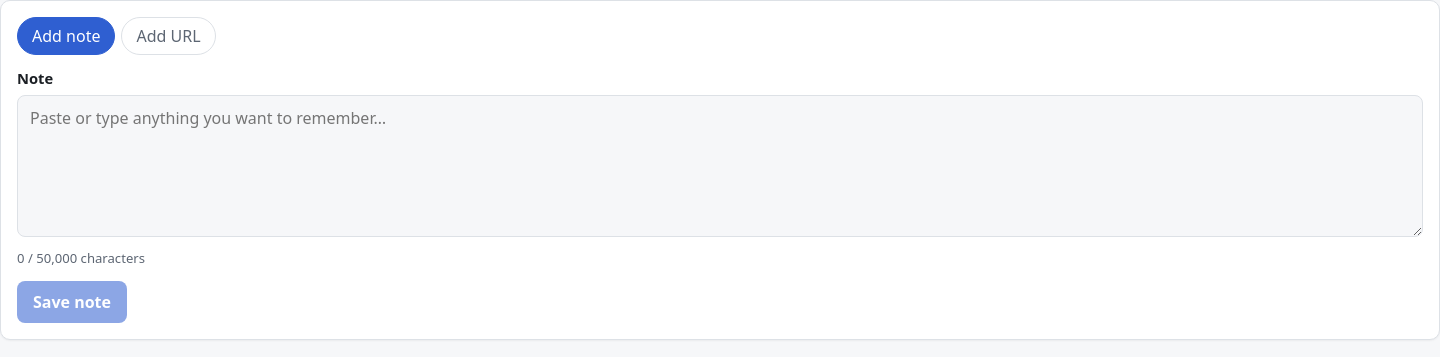
AddContentForm › switches to URL mode and submits a URL
Click the tab "Add URL" at (168, 36), box [121, 17, 216, 55]
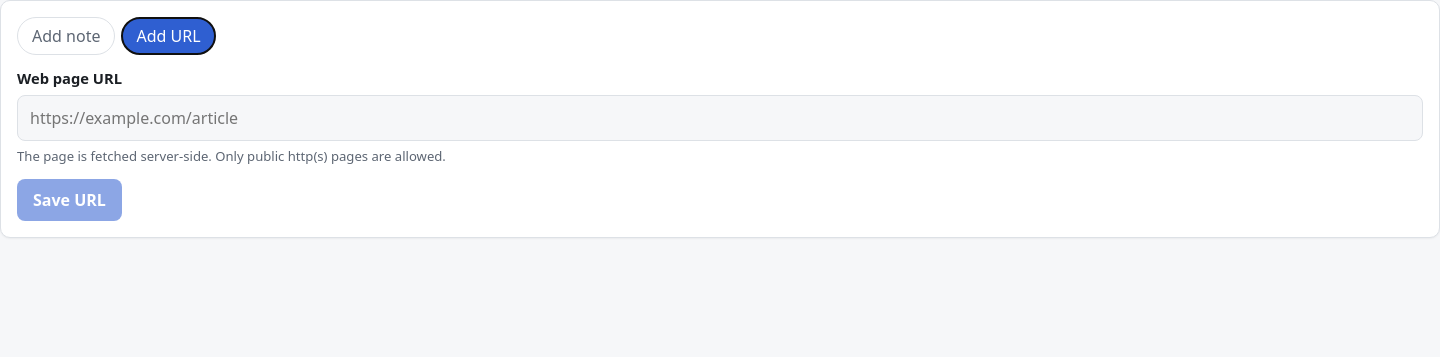
Type "https://example.com/post" into the field labelled "Web page URL" at (720, 118), box [17, 95, 1423, 141]
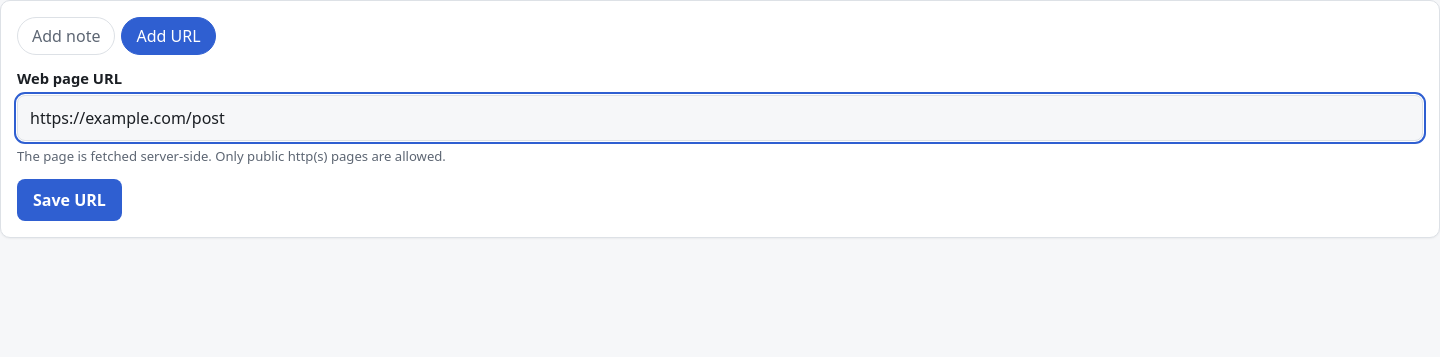
Click the button "Save URL" at (69, 200), box [17, 179, 122, 221]
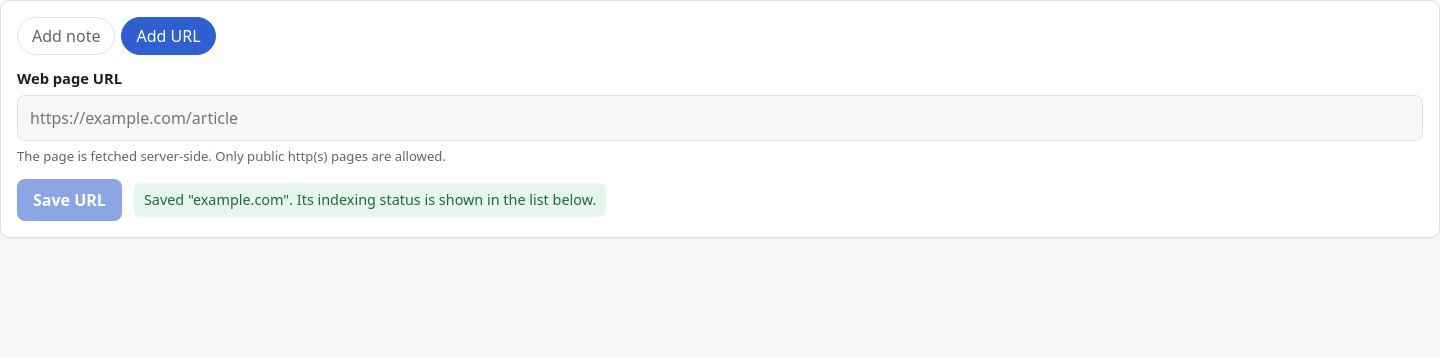
Expected: the message shows "Saved \"example.com\"", [144, 190, 596, 209]
